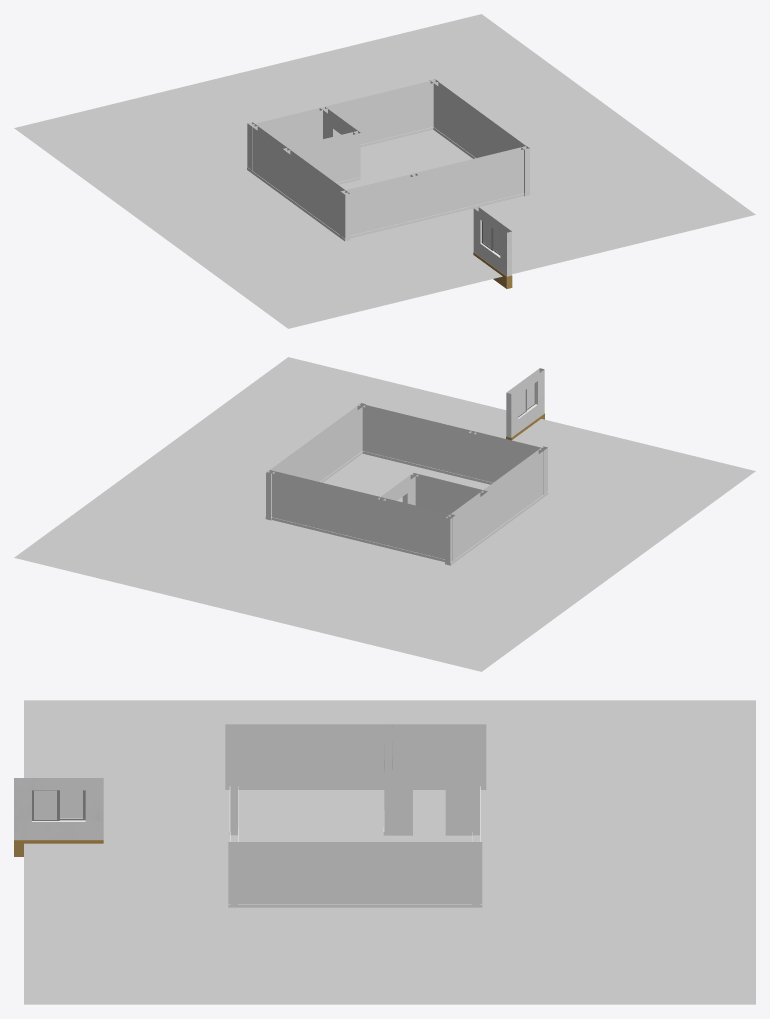
Rendered from stage3.fbx.
The picture shows the model from 3 angles, top to bottom: view 1: azimuth 30°, elevation 25°; view 2: azimuth 150°, elevation 25°; view 3: azimuth 270°, elevation 25°; orthographic projection. The views are drawn at different scales.
Parts seen in each view (by area): view 1: polySurface3, pCube2, pCube2.005, pCube2.001, pCube2.003, pCube2.006, pCube2.002, pCube76, pCube2.004, pCube50; view 2: polySurface3, pCube2, pCube2.001, pCube2.005, pCube2.003, pCube2.004, pCube2.006, pCube76, pCube2.002, pCube50; view 3: polySurface3, pCube2.003, pCube2.005, pCube76, pCube50, pCube2.006, pCube2, pCube2.001.
Part boxes in pixels (<box>): polySurface3: <box>14,14,755,328</box>; pCube2: <box>410,146,528,221</box>; pCube2.005: <box>247,122,350,241</box>; pCube2.001: <box>319,79,438,147</box>; pCube2.003: <box>429,79,530,196</box>; pCube2.006: <box>340,173,418,238</box>; pCube2.002: <box>283,131,360,184</box>; pCube76: <box>473,207,512,288</box>; pCube2.004: <box>249,106,327,170</box>; pCube50: <box>322,108,358,138</box>; polySurface3: <box>14,357,755,671</box>; pCube2: <box>357,403,476,480</box>; pCube2.001: <box>267,470,385,546</box>; pCube2.005: <box>445,446,548,565</box>; pCube2.003: <box>265,403,366,520</box>; pCube2.004: <box>377,497,455,561</box>; pCube2.006: <box>469,431,546,494</box>; pCube76: <box>506,368,544,440</box>; pCube2.002: <box>410,473,487,513</box>; pCube50: <box>380,473,418,505</box>; polySurface3: <box>24,700,755,1004</box>; pCube2.003: <box>228,842,482,907</box>; pCube2.005: <box>225,724,486,789</box>; pCube76: <box>14,778,103,856</box>; pCube50: <box>384,770,473,835</box>; pCube2.006: <box>229,773,238,835</box>; pCube2: <box>230,770,238,907</box>; pCube2.001: <box>472,770,480,907</box>.
Bounding box in the file's own units: 143 × 16.44 × 147.
